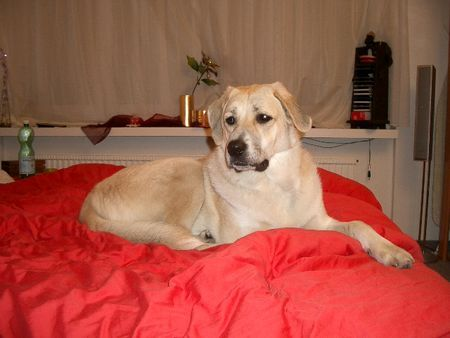kangal: (78, 80, 414, 270)
